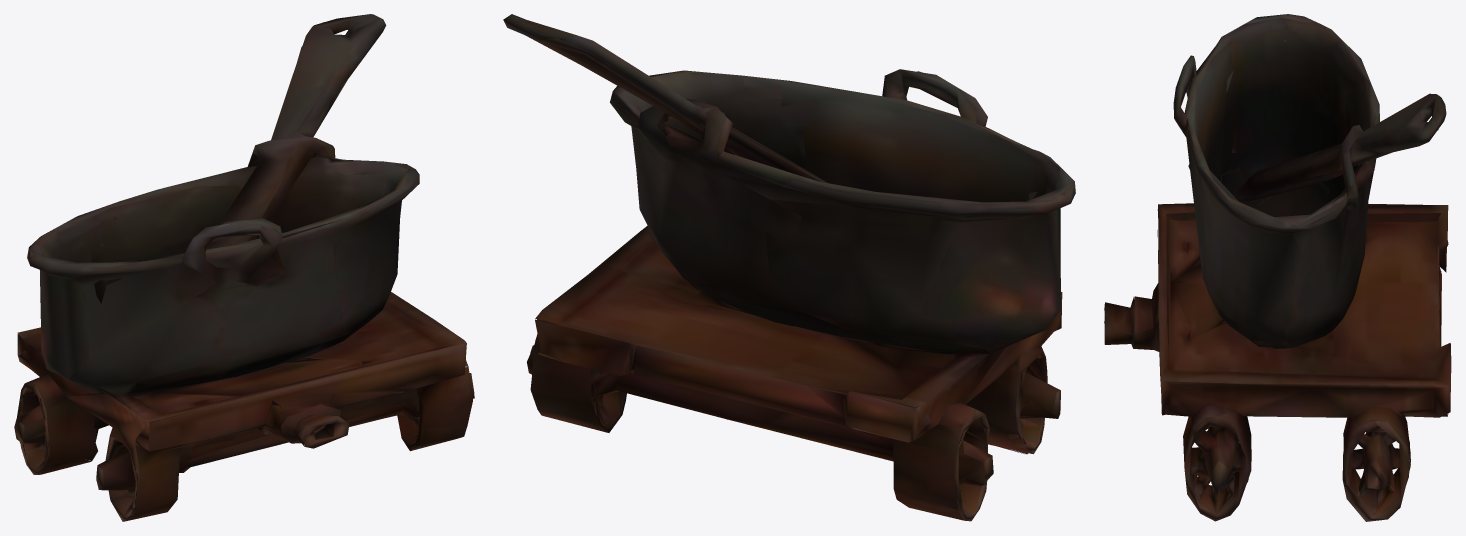
File: carro_vaciador.movil.glb
3 renders of one model, left to right at view 1: azimuth 30°, elevation 25°; view 2: azimuth 150°, elevation 25°; view 3: azimuth 270°, elevation 25°, orthographic. The views are drawn at different scales.
Visible parts, largest first — view 1: geometry_0; view 2: geometry_0; view 3: geometry_0.
Part boxes in pixels (x1=…): geometry_0: x1=14, y1=14, x2=474, y2=521; geometry_0: x1=503, y1=14, x2=1075, y2=521; geometry_0: x1=1104, y1=14, x2=1451, y2=521.
Bounding box in the file's own units: 2.2 × 1.8 × 1.4.
Materials: 1 (1 with a texture image).
